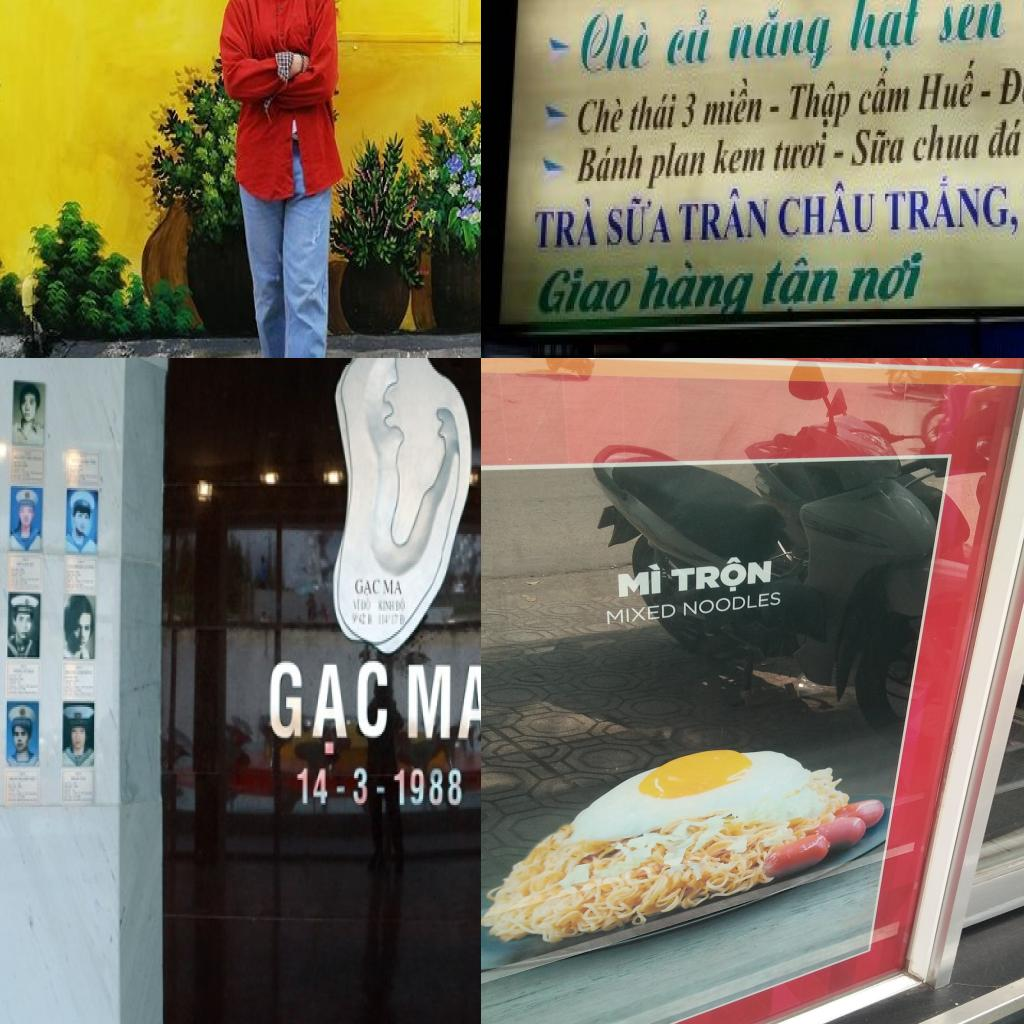text: (268, 659, 391, 757), (881, 165, 1024, 245), (724, 2, 839, 76), (636, 258, 757, 324), (296, 764, 465, 810), (777, 176, 879, 245), (678, 181, 771, 250), (406, 660, 481, 743), (576, 7, 658, 81), (758, 250, 846, 317), (534, 263, 639, 319), (843, 248, 930, 312), (845, 0, 930, 65), (531, 191, 603, 255), (698, 71, 767, 135), (786, 76, 858, 137), (603, 194, 675, 255), (915, 53, 982, 117), (670, 554, 772, 596), (908, 117, 986, 171), (853, 63, 914, 127), (935, 0, 1010, 52), (663, 4, 718, 74), (643, 137, 710, 194), (768, 127, 832, 181), (574, 140, 647, 186), (848, 125, 912, 173), (626, 89, 682, 140), (710, 135, 772, 181), (577, 94, 630, 142), (684, 592, 782, 616), (985, 114, 1024, 165), (994, 60, 1024, 119), (617, 563, 661, 598), (606, 604, 677, 624), (678, 89, 702, 137), (354, 576, 383, 600), (382, 578, 405, 598), (832, 145, 848, 166), (768, 102, 784, 120), (977, 89, 995, 104)
